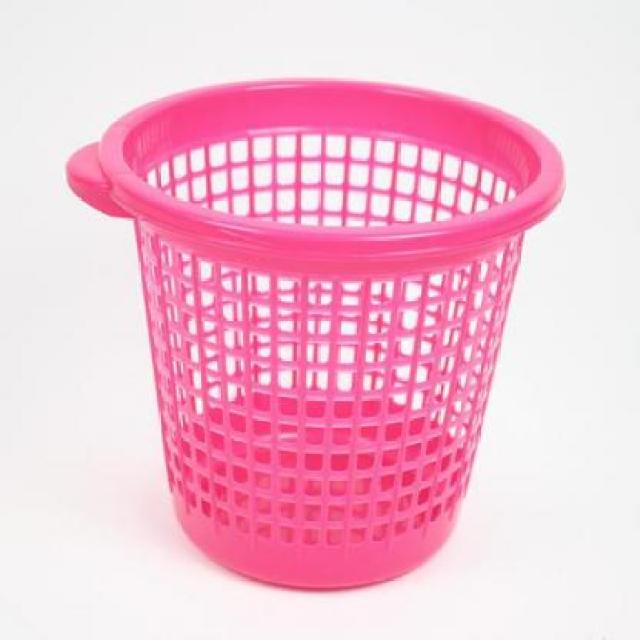dustbin: (60, 71, 574, 598)
